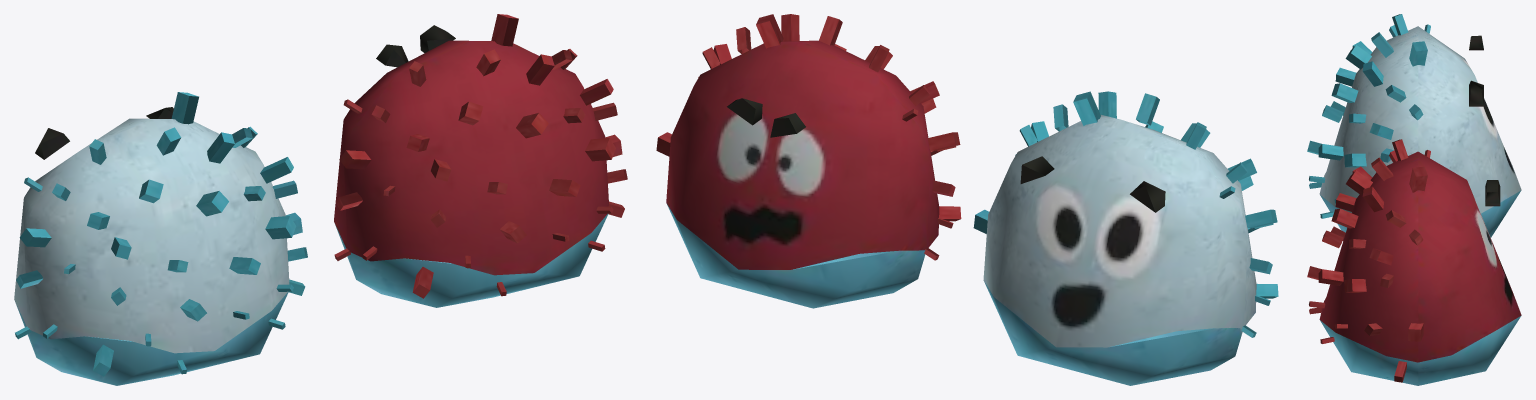
Rendered from PRP_WBC_lod.glb.
3 views of the same model, side by side, from view 1: azimuth 30°, elevation 25°; view 2: azimuth 150°, elevation 25°; view 3: azimuth 270°, elevation 25° (orthographic). The views are drawn at different scales.
Parts seen in each view (by area): view 1: body_low, body_low1, hairs_low1, hairs_low, brow_low2, brow_low3; view 2: body_low, body_low1, hairs_low1, hairs_low, brow_low3, brow_low2; view 3: body_low, body_low1, hairs_low, hairs_low1, brow_low3, brow_low2.
Part boxes in pixels (x1,y1,x2,y2): body_low: (334,40,608,307); body_low1: (14,118,289,385); hairs_low1: (15,92,307,376); hairs_low: (334,14,627,298); brow_low2: (376,25,455,67); brow_low3: (35,107,173,159); body_low: (666,40,939,308); body_low1: (983,115,1256,385); hairs_low1: (973,91,1278,337); hairs_low: (656,14,961,260); brow_low3: (1020,156,1165,212); brow_low2: (727,98,805,137); body_low: (1319,151,1521,385); body_low1: (1319,26,1521,237); hairs_low: (1307,139,1430,382); hairs_low1: (1307,14,1430,218); brow_low3: (1469,35,1483,106); brow_low2: (1485,180,1500,206).
Bounding box in the file's own units: 479 × 195 × 182.
Materials: 2 (2 with a texture image).
